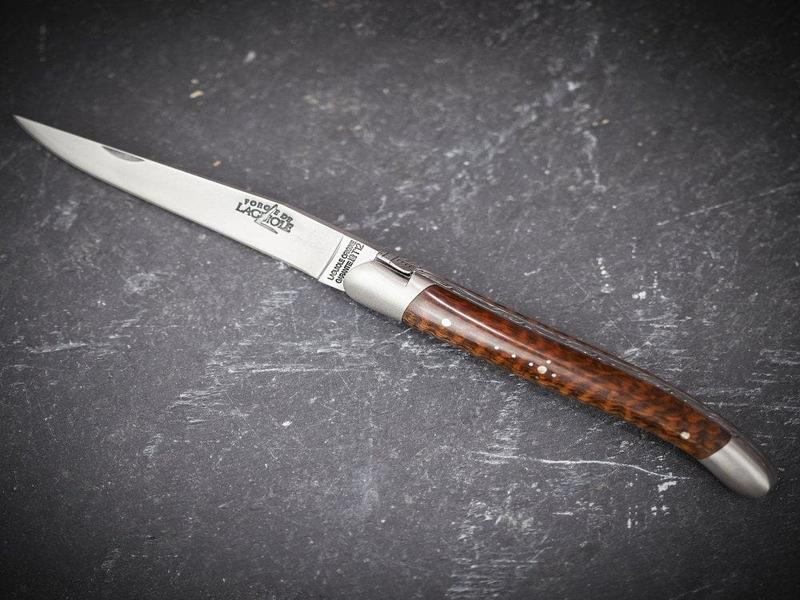KNIFE: (9, 108, 787, 511)
